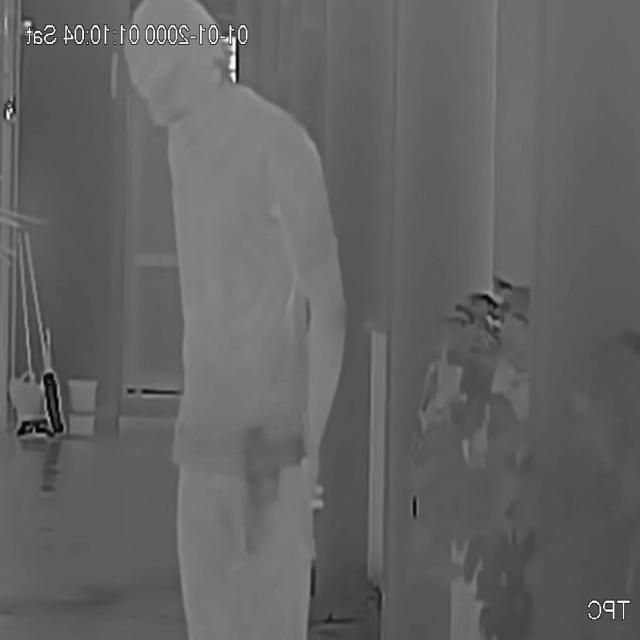Weapon: (219, 414, 314, 564)
